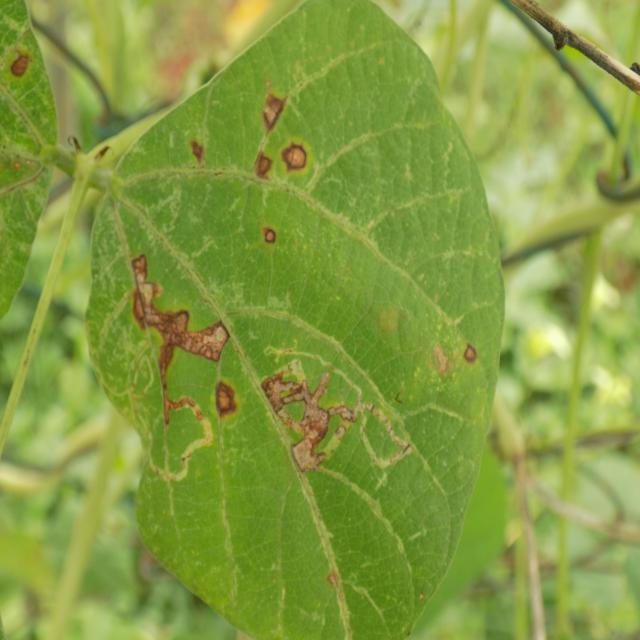Dolicos bean_cercospora leaf spot: (80, 0, 507, 640)
